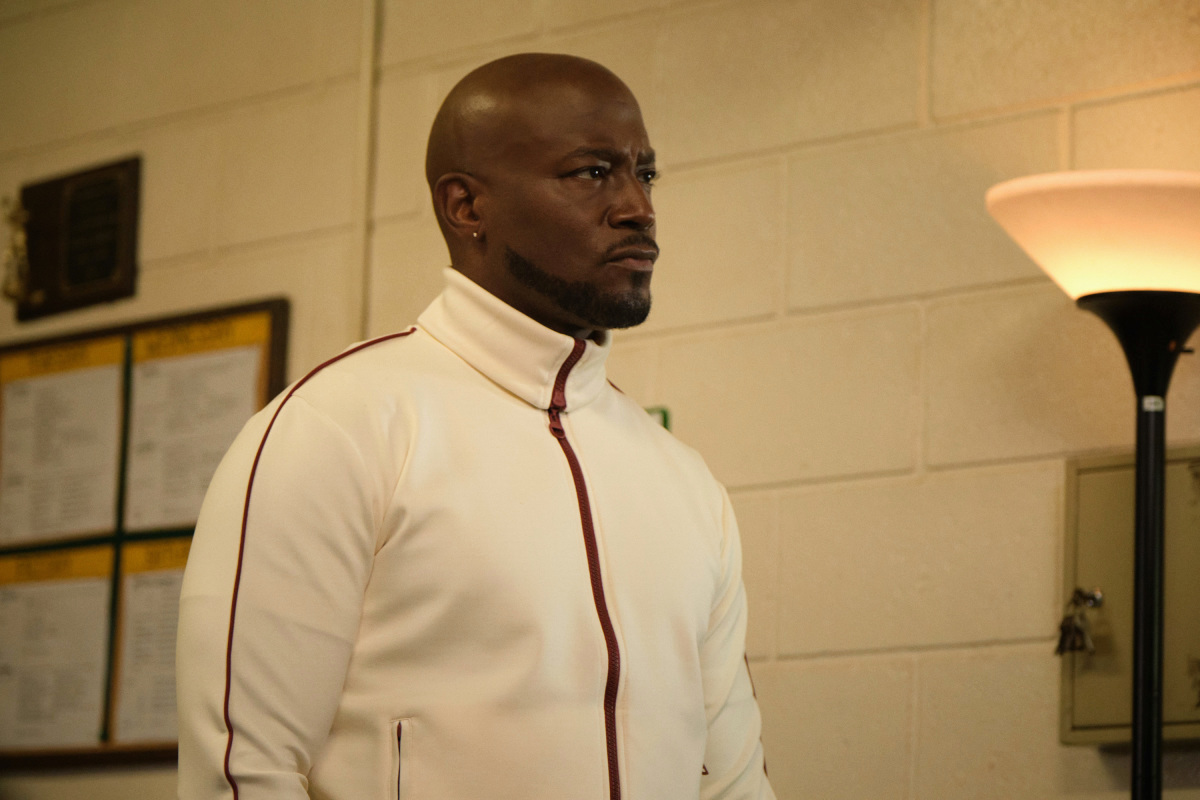No Mask: (591, 189, 717, 316)
